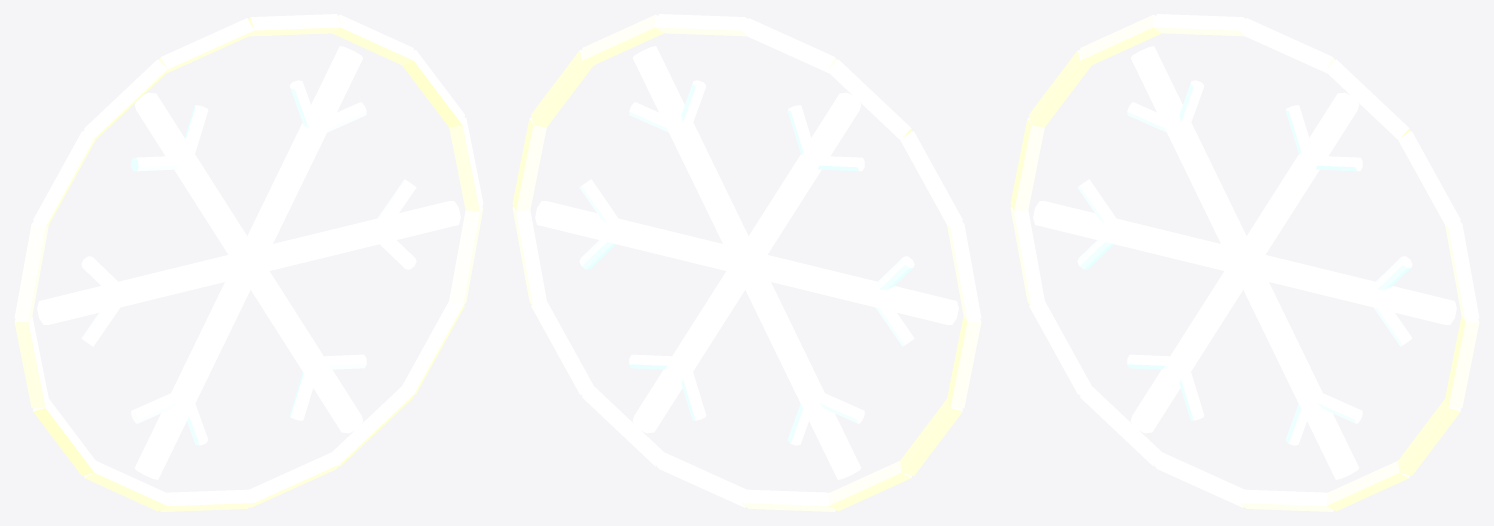
File: solsticenova.glb
The picture shows the model from 3 angles, left to right: view 1: azimuth 30°, elevation 25°; view 2: azimuth 150°, elevation 25°; view 3: azimuth 330°, elevation 25°; orthographic projection.
Visible parts, largest first — view 1: Solstice Supernova dimensional effect.001; view 2: Solstice Supernova dimensional effect.001; view 3: Solstice Supernova dimensional effect.001.
Boxes of the visible parts, x1=… form: Solstice Supernova dimensional effect.001: x1=14, y1=14, x2=483, y2=511; Solstice Supernova dimensional effect.001: x1=512, y1=14, x2=981, y2=511; Solstice Supernova dimensional effect.001: x1=1010, y1=14, x2=1479, y2=511.
Bounding box in the file's own units: 1.83 × 1.83 × 0.09.
